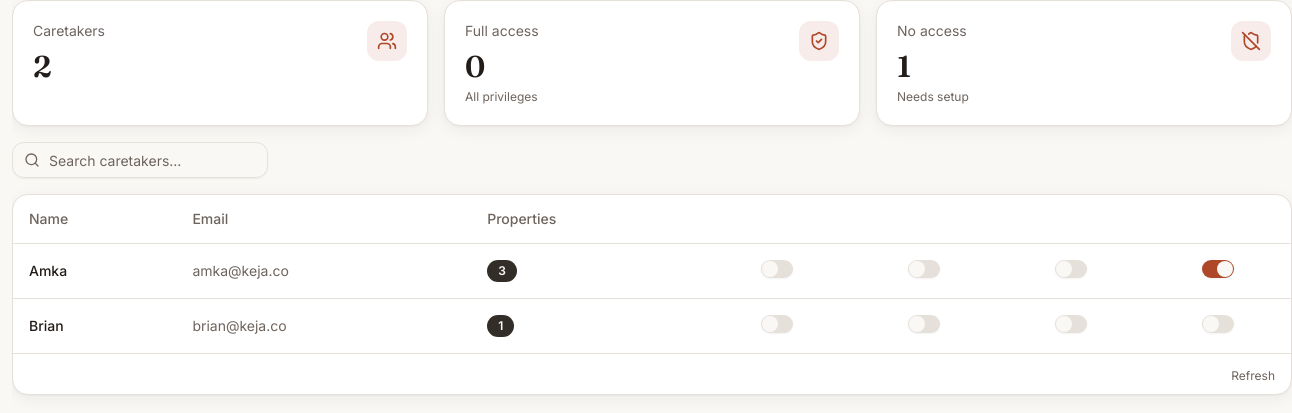
Test: CaretakerPrivilegesTable › filters caretakers by the search box
The width and height of the screenshot is (1292, 413).
In the field with placeholder "Search caretakers…": {"x": 140, "y": 160} [12, 142, 268, 178], type "brian"
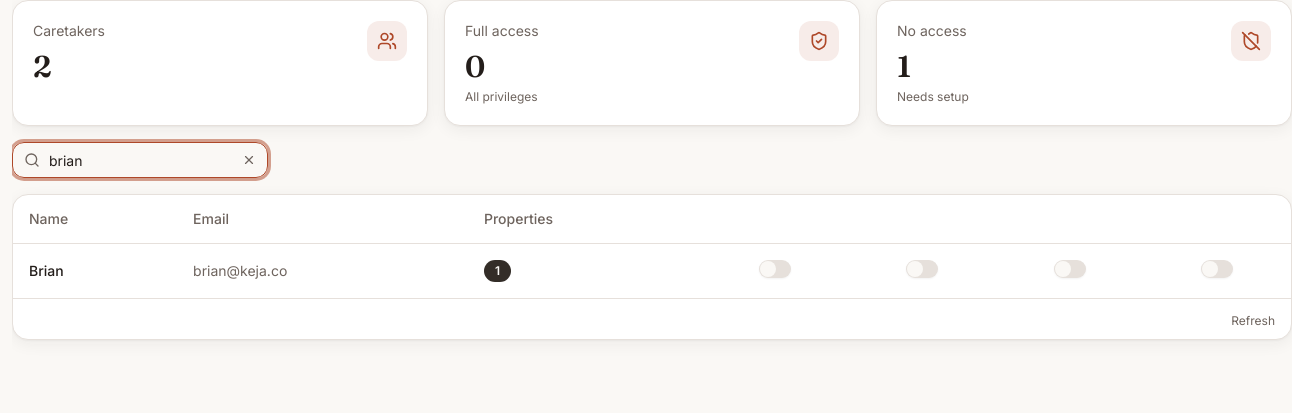
expect the text "Brian" is shown: met, box [13, 243, 177, 298]
expect the text "Amka" is gone: met
